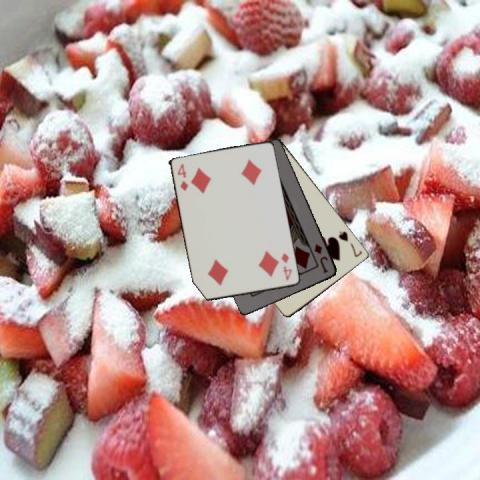4d: (175, 160, 190, 193), (279, 250, 293, 282)
7s: (335, 228, 364, 259)
Jd: (312, 241, 330, 274)
